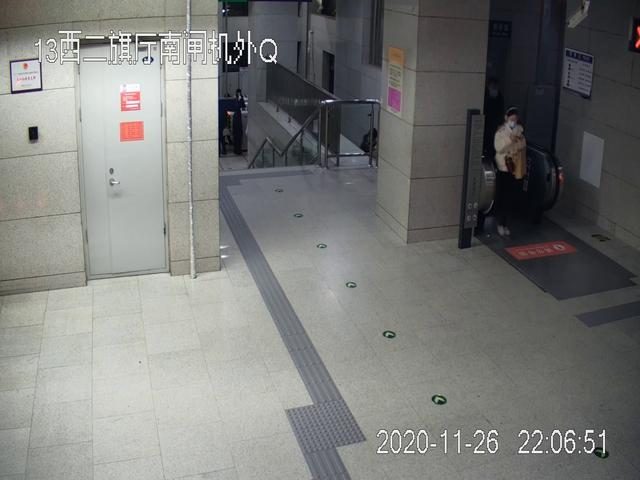person: (493, 108, 527, 235)
